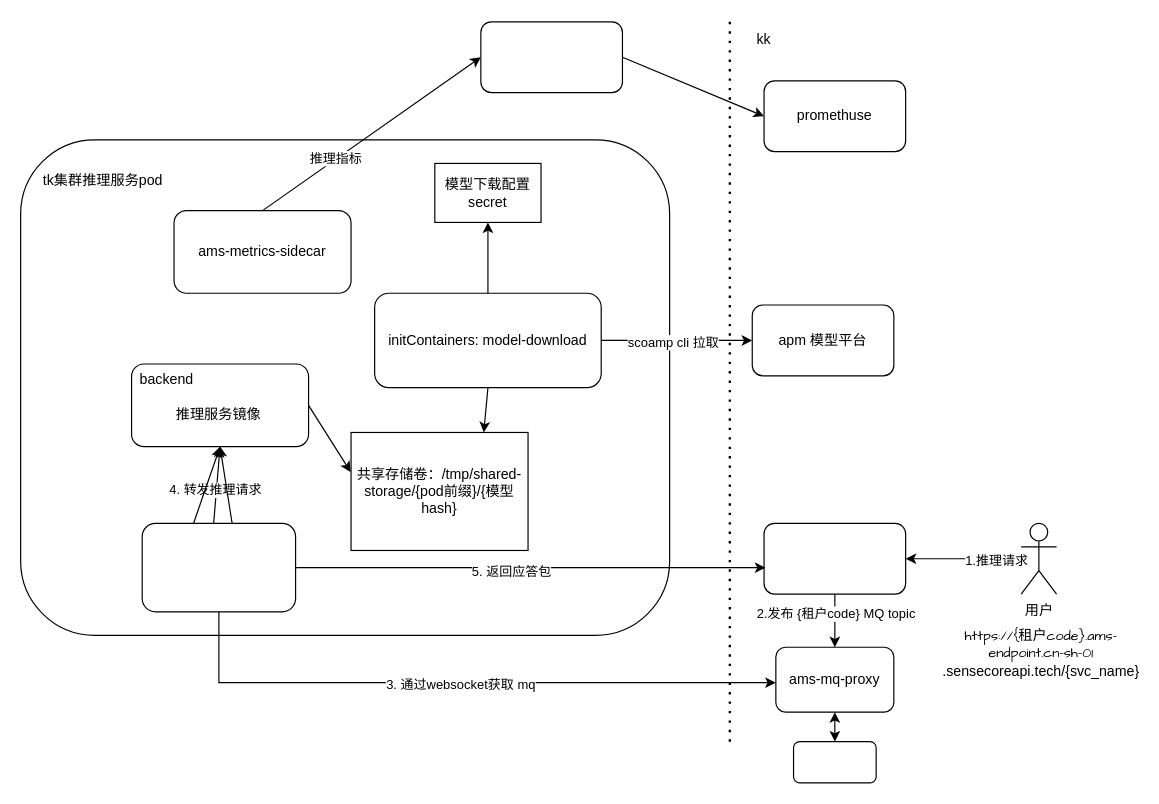
The diagram is 1159 pixels wide and 804 high, and some of its shapes have lost their labels. The shapes that lost their labels are listed below. From the top down, each one's centre as x and y in pixels, then its label:
At point 551,57: "tk pushgateway".
At point 218,567: "ams-inference-sidecar".
At point 834,558: "ams-inference-gateway".
At point 834,761: "redis".
